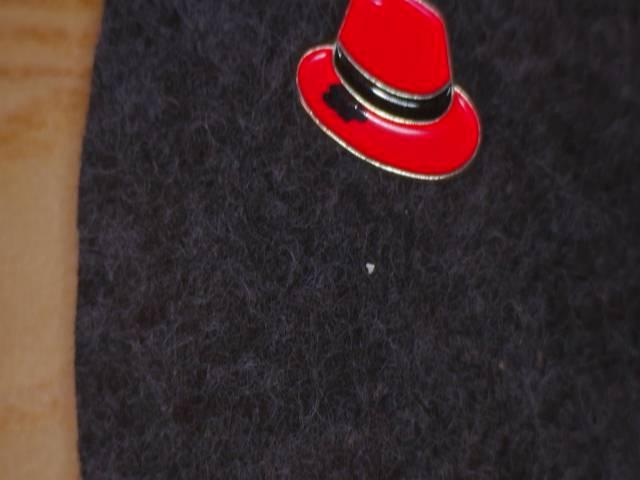Red-Hat: (277, 0, 508, 216)
Scratch: (311, 66, 372, 131)
